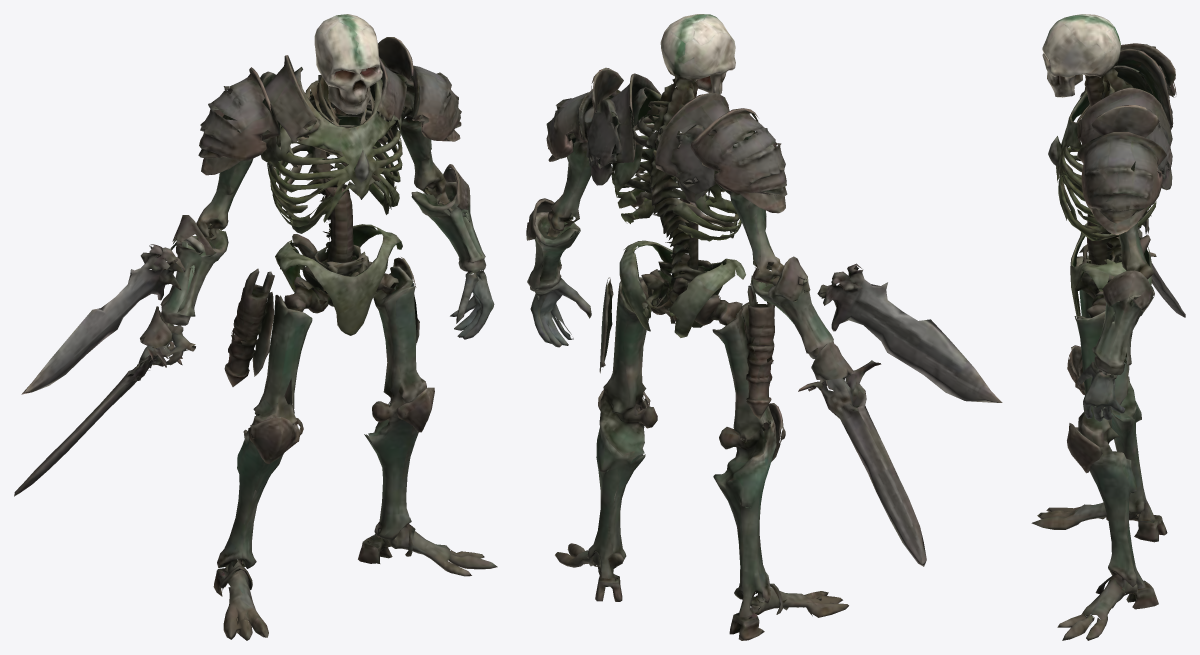
File: mob_skeletal_warrior.glb
3 views of the same model, side by side, from view 1: azimuth 30°, elevation 25°; view 2: azimuth 150°, elevation 25°; view 3: azimuth 270°, elevation 25° (orthographic). The views are drawn at different scales.
Parts seen in each view (by area): view 1: world; view 2: world; view 3: world.
Boxes of the visible parts, <box> form: world: <box>14,14,497,640</box>; world: <box>526,14,1002,640</box>; world: <box>1031,14,1185,640</box>.
Bounding box in the file's own units: 0.8541 × 0.9993 × 0.2503.
Materials: 1 (1 with a texture image).
